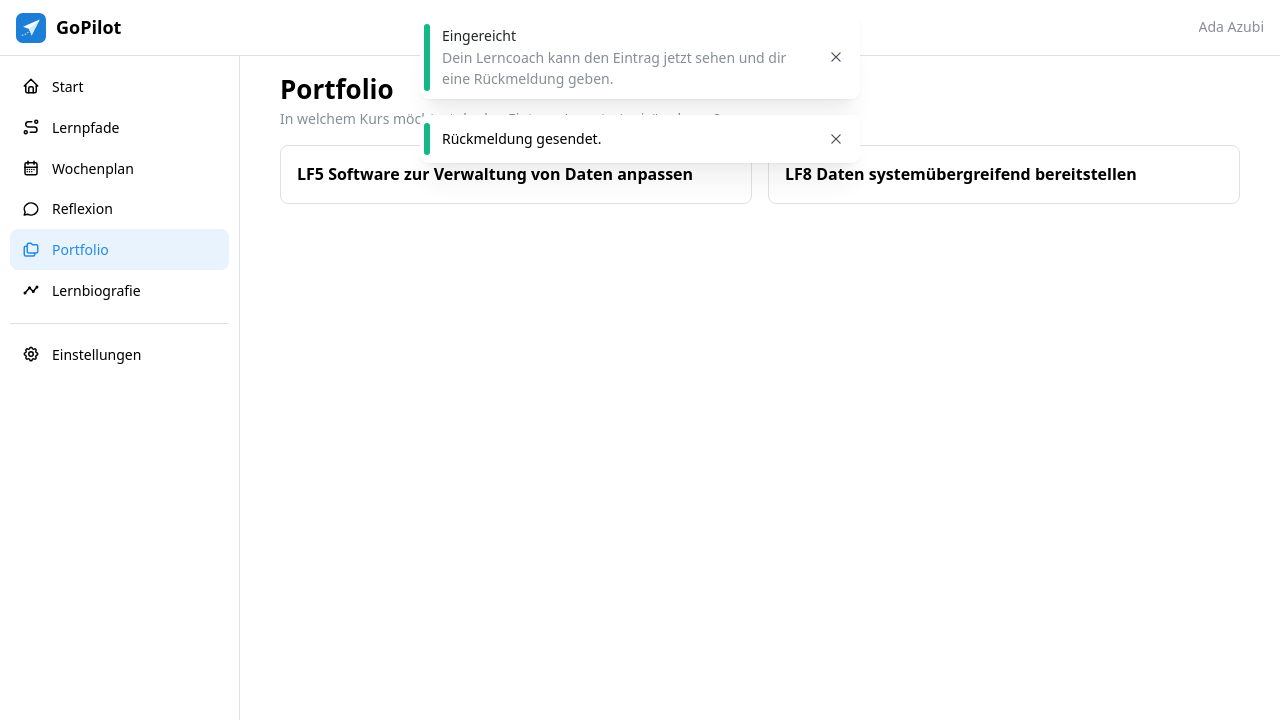
Portfolio-Links aus dem Teaching Assistant › /portfolio/neu/strategie?name=… fragt nach dem Kurs und füllt die Strategie mit Beschreibung vor
The width and height of the screenshot is (1280, 720).
Expected: the text "In welchem Kurs möchtest du den Eintrag „Lernstrategie“ anlegen" is shown, 280,109 -> 720,128
Click the link "LF5 Software zur Verwaltung von Daten anpassen" at (516, 175), box 280,145 -> 752,204
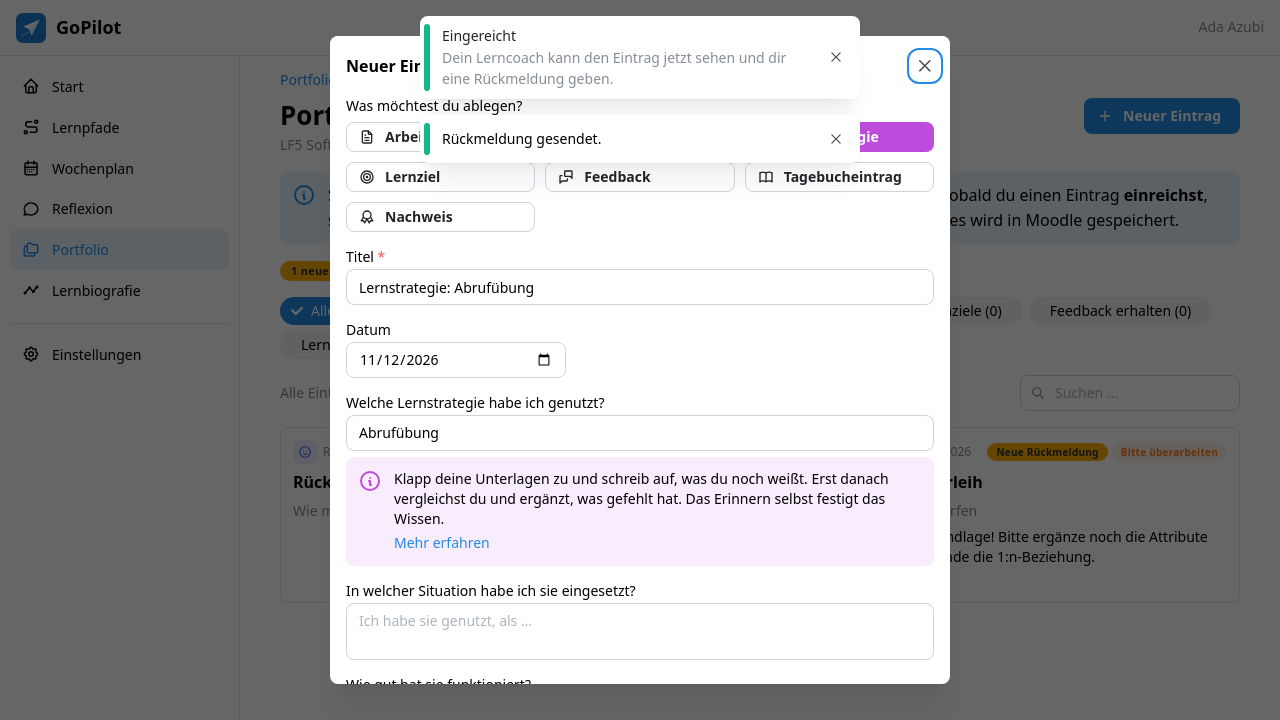
Result: the field labelled "Titel *" holds "Lernstrategie: Abrufübung" at 346,269 -> 934,305
Result: the field labelled "Welche Lernstrategie habe ich genutzt?" holds "Abrufübung" at 346,415 -> 934,451
Result: the text "Klapp deine Unterlagen zu" is shown at 394,469 -> 889,528
